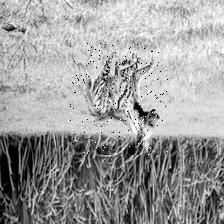hyena: (69, 42, 167, 154)
